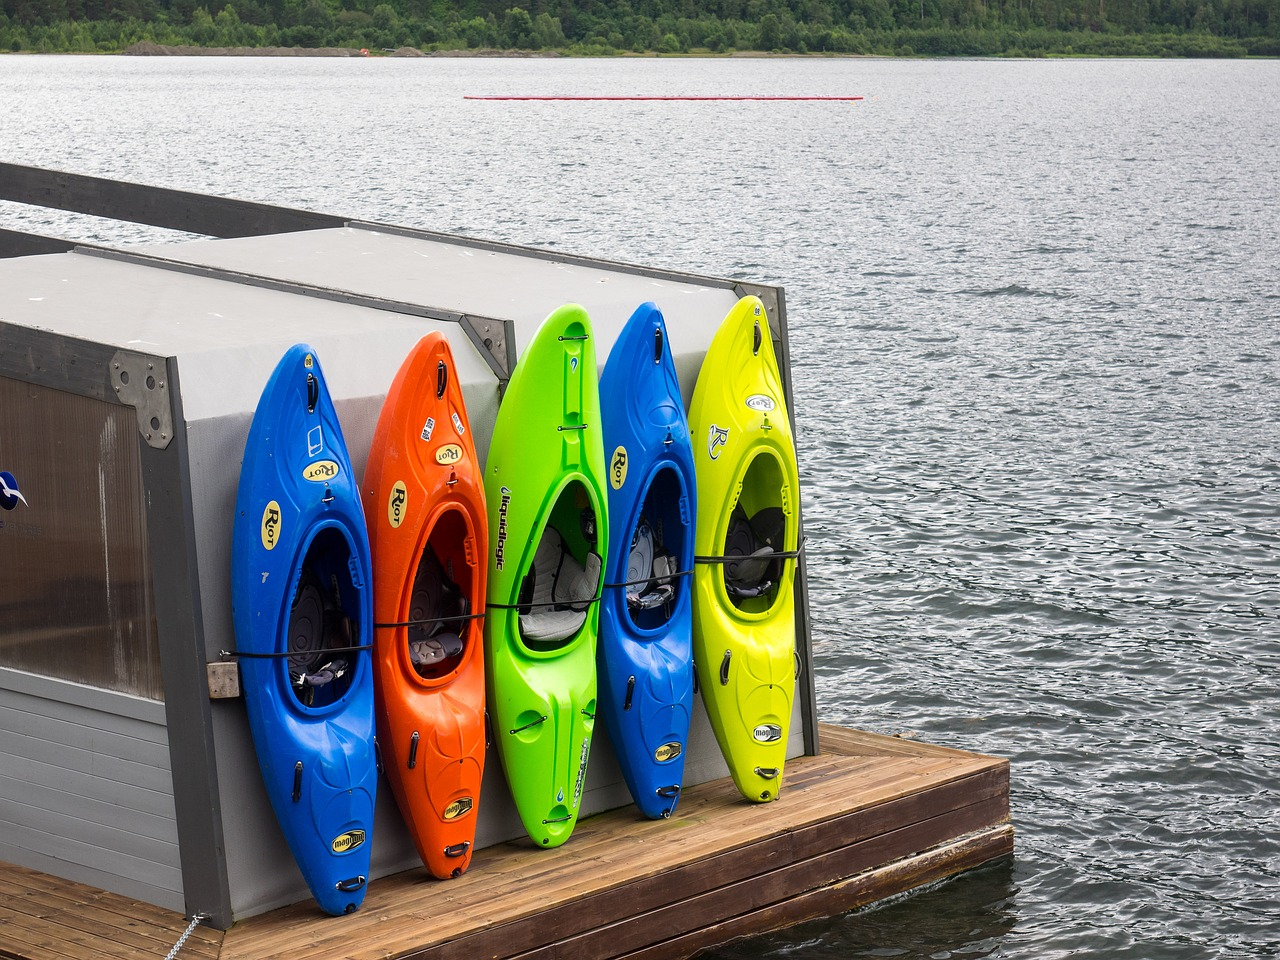kayak: (232, 338, 380, 924), (359, 326, 491, 886), (480, 301, 608, 850), (687, 292, 801, 807), (597, 295, 700, 828)
